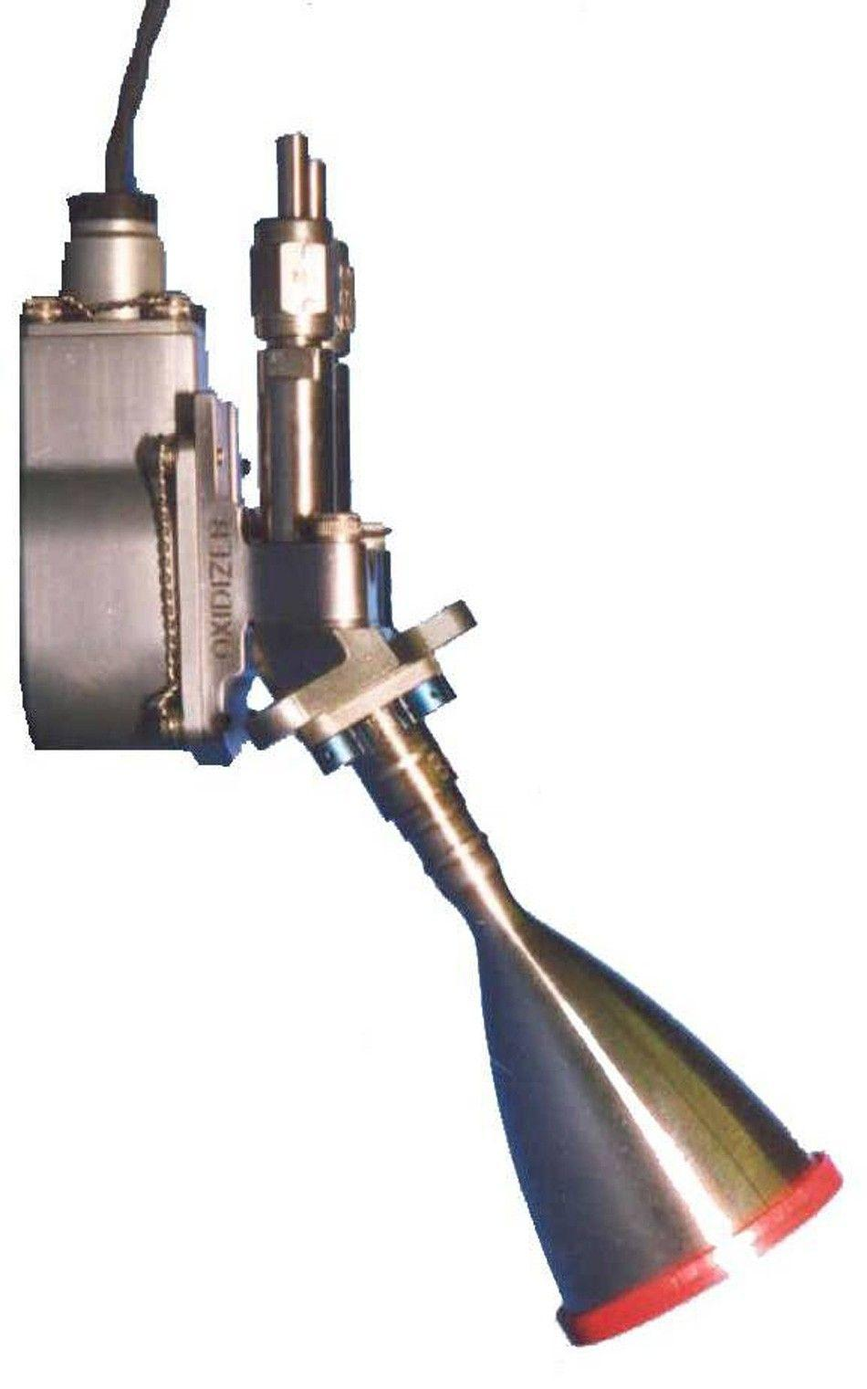thruster: (325, 716, 848, 1348)
